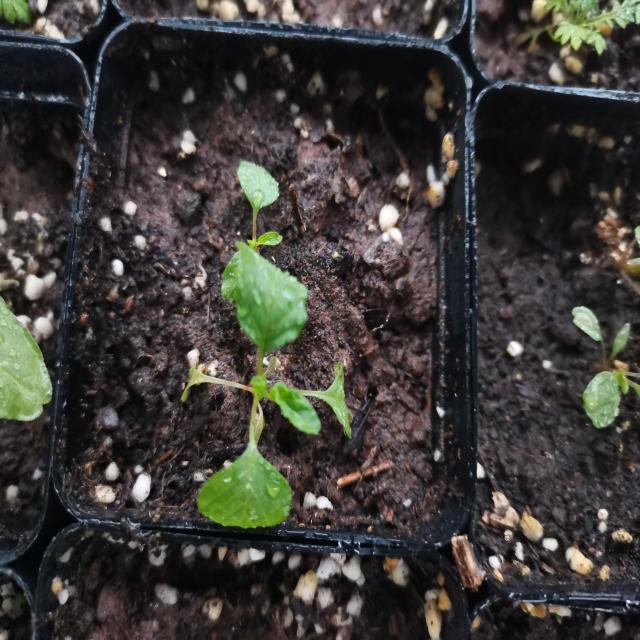pigweed: (180, 246, 351, 528)
